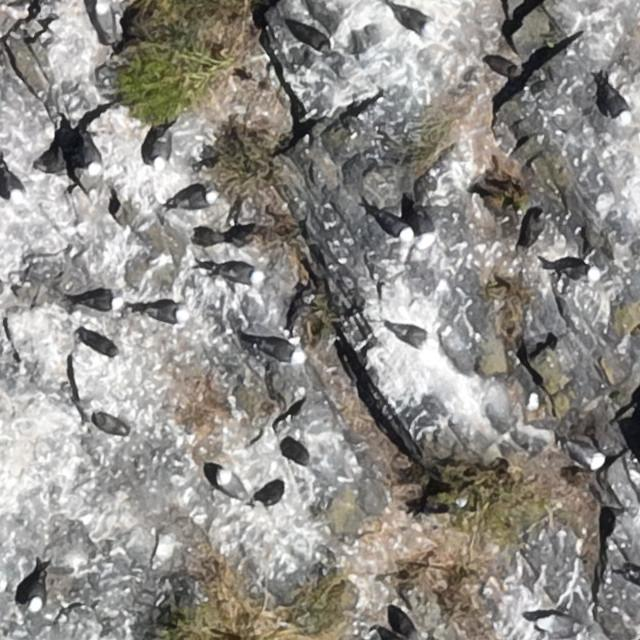umineko: (600, 80, 632, 123), (396, 7, 436, 38), (258, 342, 302, 364), (571, 442, 603, 468), (538, 615, 578, 635), (379, 215, 412, 239), (219, 264, 259, 283), (413, 208, 432, 248), (560, 262, 600, 280), (219, 471, 244, 498), (396, 328, 428, 348), (93, 413, 122, 435), (146, 304, 183, 321), (181, 192, 214, 210), (95, 2, 112, 36), (84, 142, 101, 176), (28, 580, 44, 612), (84, 293, 116, 309), (6, 172, 23, 202), (152, 138, 168, 166)
